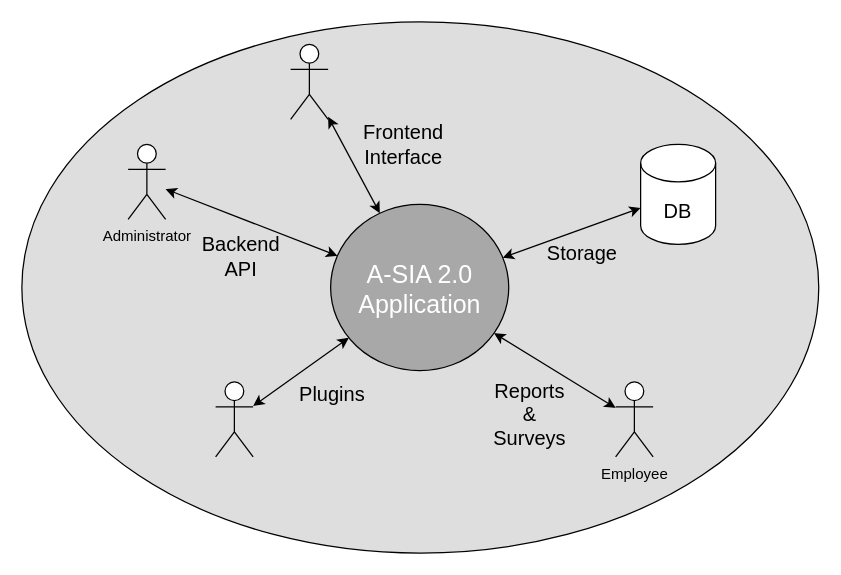
This 841x575 diagram has some shape labels left out. Each missing label, with the centre of its shape:
Developer / Maintanance: pixel 233 419
User: pixel 308 81
